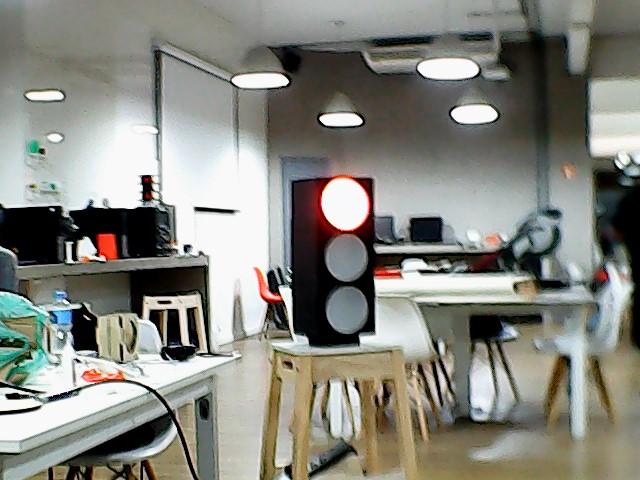vermelho: (288, 170, 385, 345)
